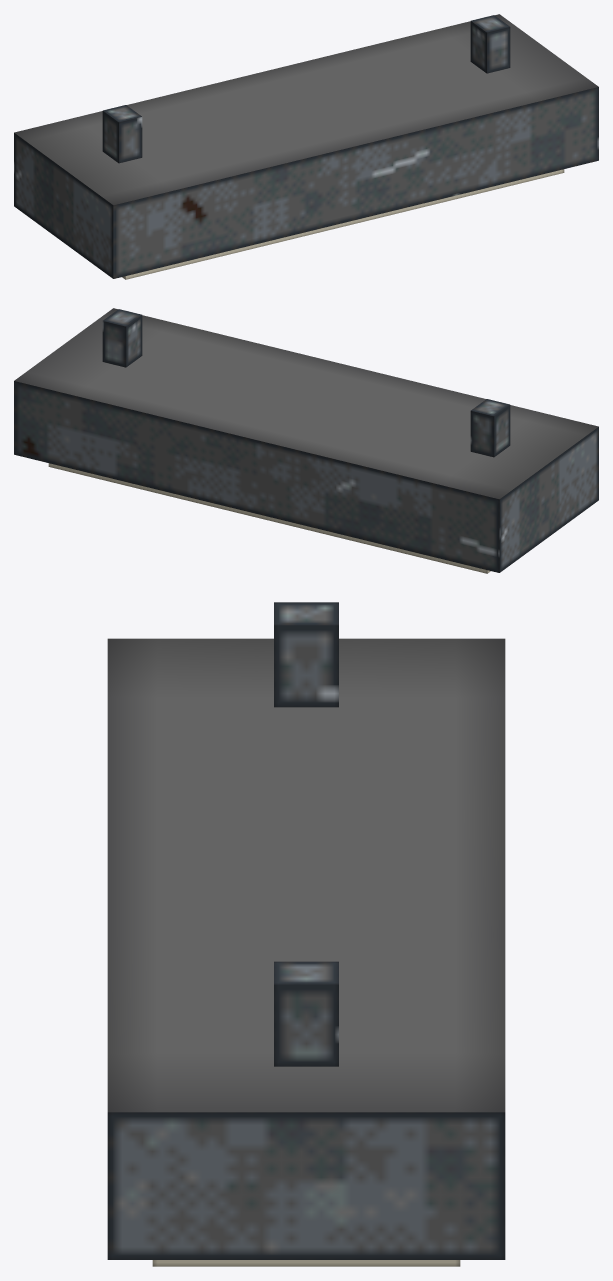
Rendered from SM_CeilingLight_01.fbx.
The picture shows the model from 3 angles, top to bottom: view 1: azimuth 30°, elevation 25°; view 2: azimuth 150°, elevation 25°; view 3: azimuth 270°, elevation 25°; orthographic projection. The views are drawn at different scales.
Visible parts, largest first — view 1: SM_CeilingLight_01; view 2: SM_CeilingLight_01; view 3: SM_CeilingLight_01.
Boxes of the visible parts, bbox=[...] form: SM_CeilingLight_01: bbox=[14, 14, 598, 279]; SM_CeilingLight_01: bbox=[14, 308, 598, 573]; SM_CeilingLight_01: bbox=[107, 602, 505, 1266].
Bounding box in the file's own units: 0.62 × 0.158 × 0.22.
1 material, 1 textured.
